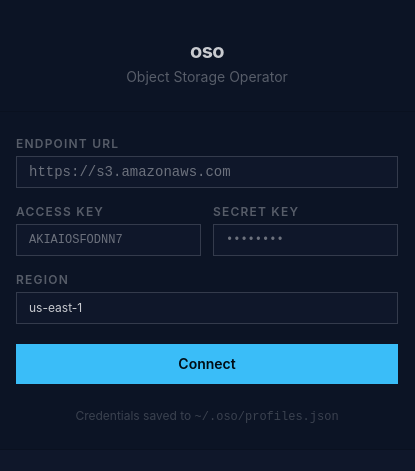
Test case: SetupScreen › shows the connection error and stays on the setup screen
Type "  http://localhost:9000 " into the field labelled "Endpoint URL". click: (207, 172)
box: x1=16 y1=156 x2=398 y2=188
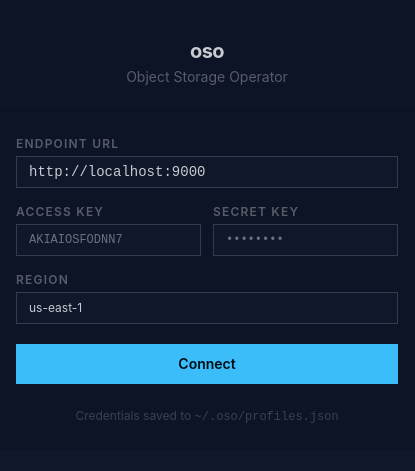
Type " osodev " into the field labelled "Access Key". click: (108, 240)
box: x1=16 y1=224 x2=201 y2=256
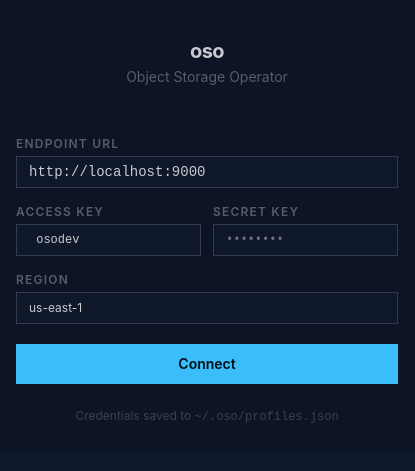
Type " osodevpass " into the password field labelled "Secret Key". click: (306, 240)
box: x1=213 y1=224 x2=398 y2=256
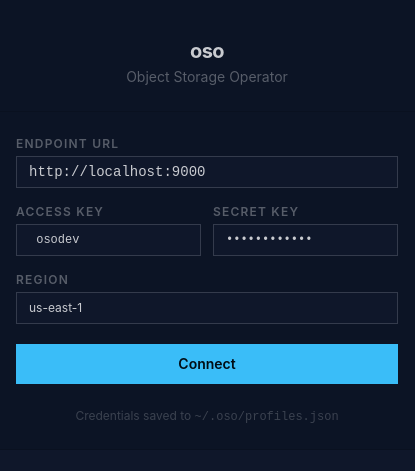
Click the button "Connect". click: (207, 364)
box: x1=16 y1=344 x2=398 y2=384
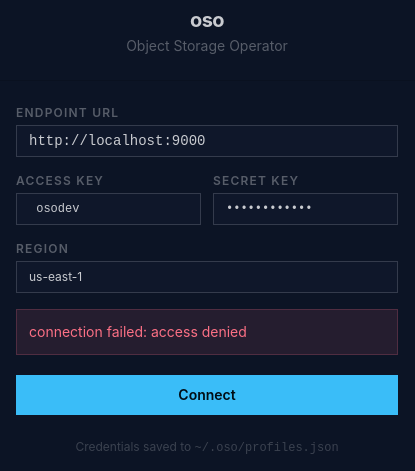
Expected: the button "Connect" is enabled, x1=16 y1=374 x2=398 y2=414
Result: the text "connection failed: access denied" is shown at x1=29 y1=322 x2=247 y2=342
